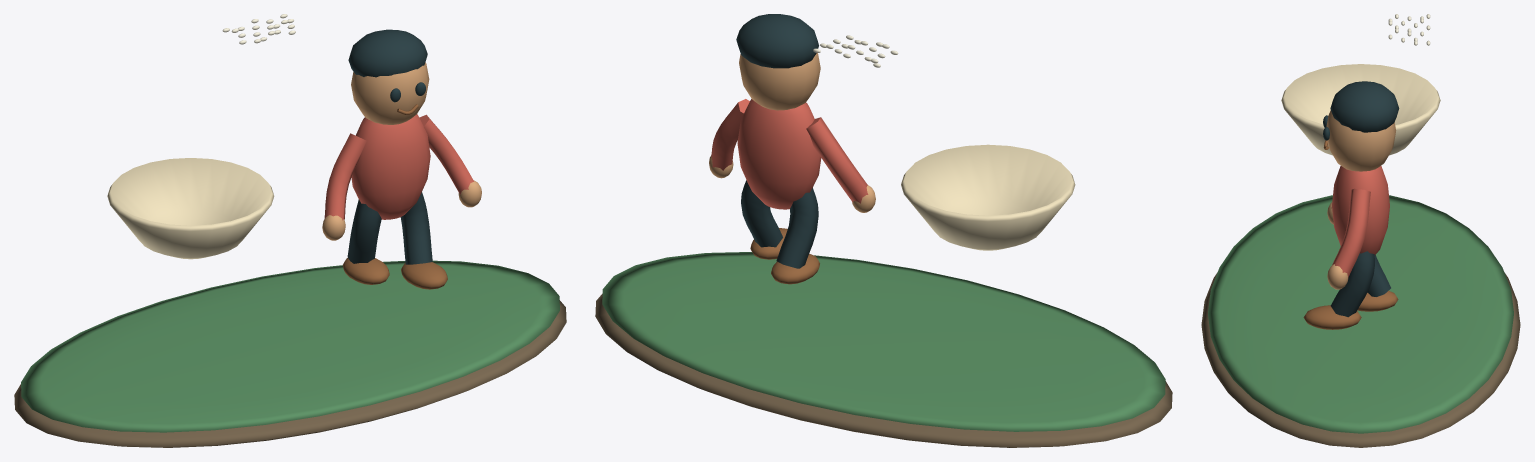
Rendered from complete-third-child-belly.glb.
3 renders of one model, left to right at view 1: azimuth 30°, elevation 25°; view 2: azimuth 150°, elevation 25°; view 3: azimuth 270°, elevation 25°, orthographic. The views are drawn at different scales.
Visible parts, largest first — view 1: complete-third-child-belly_surface_01, complete-third-child-belly_surface_02, complete-third-child-belly_surface_00, complete-third-child-belly_surface_06, complete-third-child-belly_surface_04, complete-third-child-belly_surface_03, complete-third-child-belly_surface_05, complete-third-child-belly_surface_07; view 2: complete-third-child-belly_surface_01, complete-third-child-belly_surface_02, complete-third-child-belly_surface_00, complete-third-child-belly_surface_06, complete-third-child-belly_surface_04, complete-third-child-belly_surface_03, complete-third-child-belly_surface_05, complete-third-child-belly_surface_07; view 3: complete-third-child-belly_surface_01, complete-third-child-belly_surface_02, complete-third-child-belly_surface_00, complete-third-child-belly_surface_04, complete-third-child-belly_surface_06, complete-third-child-belly_surface_03, complete-third-child-belly_surface_05, complete-third-child-belly_surface_07.
Boxes of the visible parts, x1,y1,x2,y2 form: complete-third-child-belly_surface_01: [21, 260, 559, 432]; complete-third-child-belly_surface_02: [107, 158, 274, 259]; complete-third-child-belly_surface_00: [14, 300, 566, 447]; complete-third-child-belly_surface_06: [324, 114, 474, 220]; complete-third-child-belly_surface_04: [347, 29, 432, 264]; complete-third-child-belly_surface_03: [322, 62, 481, 240]; complete-third-child-belly_surface_05: [342, 104, 447, 289]; complete-third-child-belly_surface_07: [222, 14, 295, 44]; complete-third-child-belly_surface_01: [602, 252, 1165, 431]; complete-third-child-belly_surface_02: [901, 144, 1075, 250]; complete-third-child-belly_surface_00: [595, 293, 1172, 447]; complete-third-child-belly_surface_06: [711, 99, 868, 209]; complete-third-child-belly_surface_04: [736, 14, 818, 268]; complete-third-child-belly_surface_03: [709, 53, 875, 212]; complete-third-child-belly_surface_05: [750, 228, 819, 284]; complete-third-child-belly_surface_07: [813, 35, 898, 67]; complete-third-child-belly_surface_01: [1208, 195, 1513, 433]; complete-third-child-belly_surface_02: [1281, 64, 1440, 155]; complete-third-child-belly_surface_00: [1201, 272, 1520, 447]; complete-third-child-belly_surface_04: [1323, 81, 1399, 317]; complete-third-child-belly_surface_06: [1331, 166, 1389, 277]; complete-third-child-belly_surface_03: [1326, 110, 1396, 289]; complete-third-child-belly_surface_05: [1303, 140, 1398, 329]; complete-third-child-belly_surface_07: [1388, 14, 1430, 45].
Bounding box in the file's own units: 4.56 × 2.71 × 2.5.
